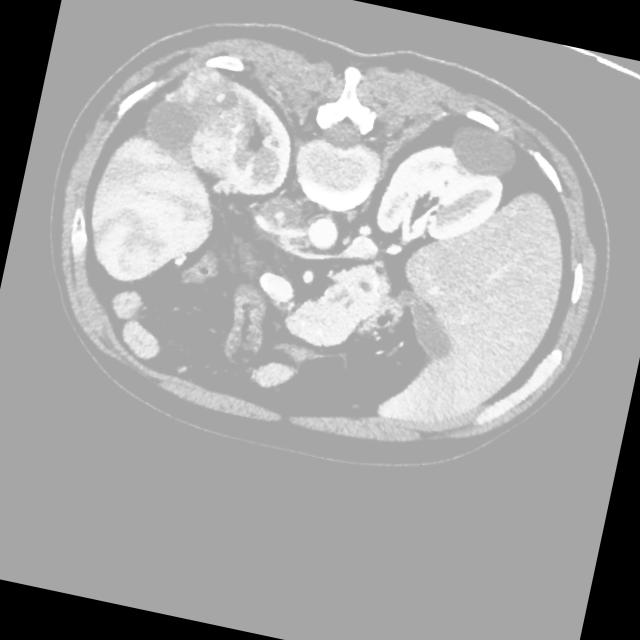TUMOR: (50, 38, 563, 420)
